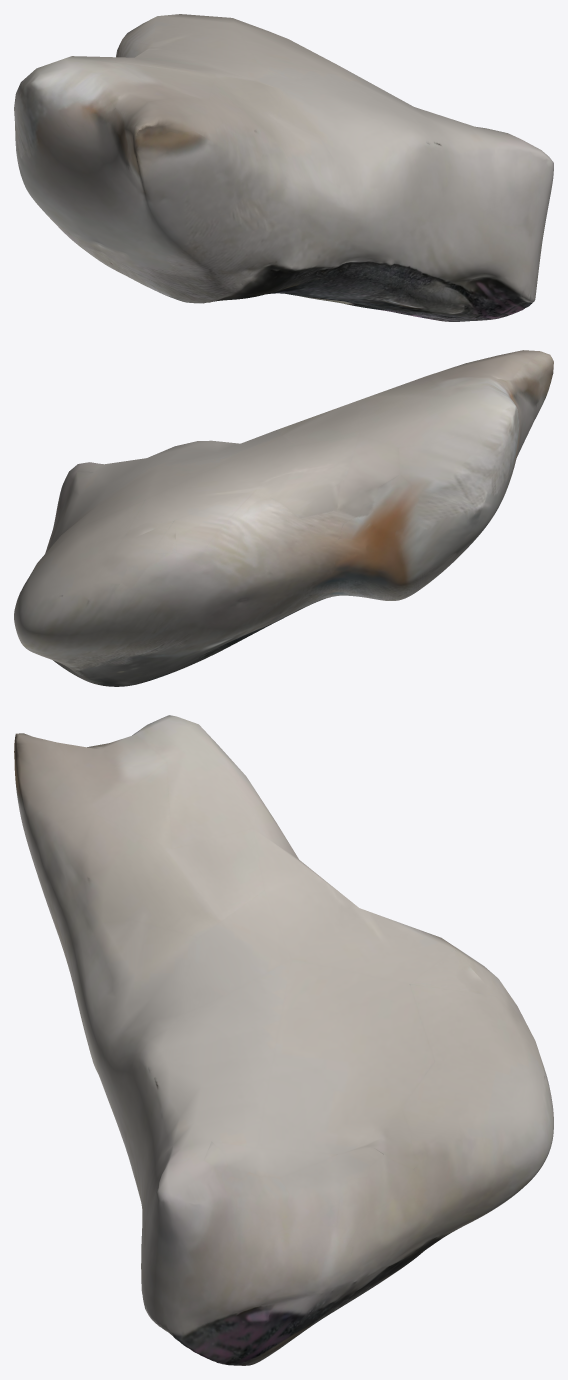
3 views of the same model, one above another, from view 1: azimuth 30°, elevation 25°; view 2: azimuth 150°, elevation 25°; view 3: azimuth 270°, elevation 25° (orthographic). The views are drawn at different scales.
Size of the model in its own units: 0.2732 by 0.1957 by 0.2314.
Materials: 1 (1 with a texture image).
